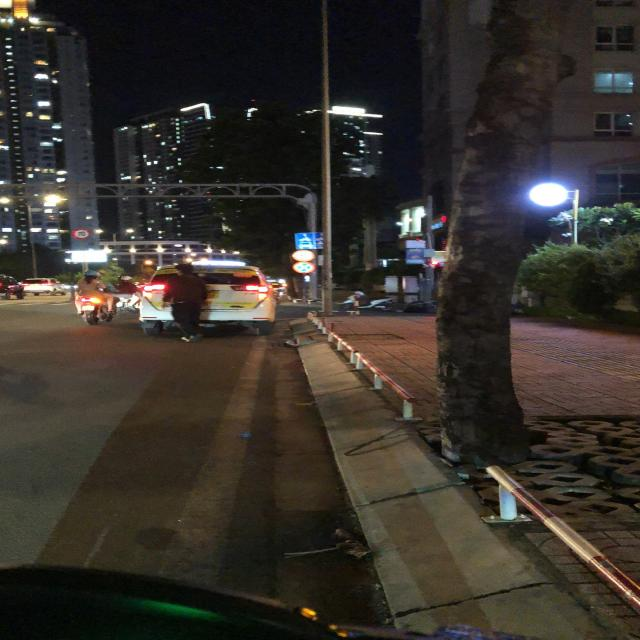Bien bao toc do toi da cho phep: (69, 228, 94, 239)
